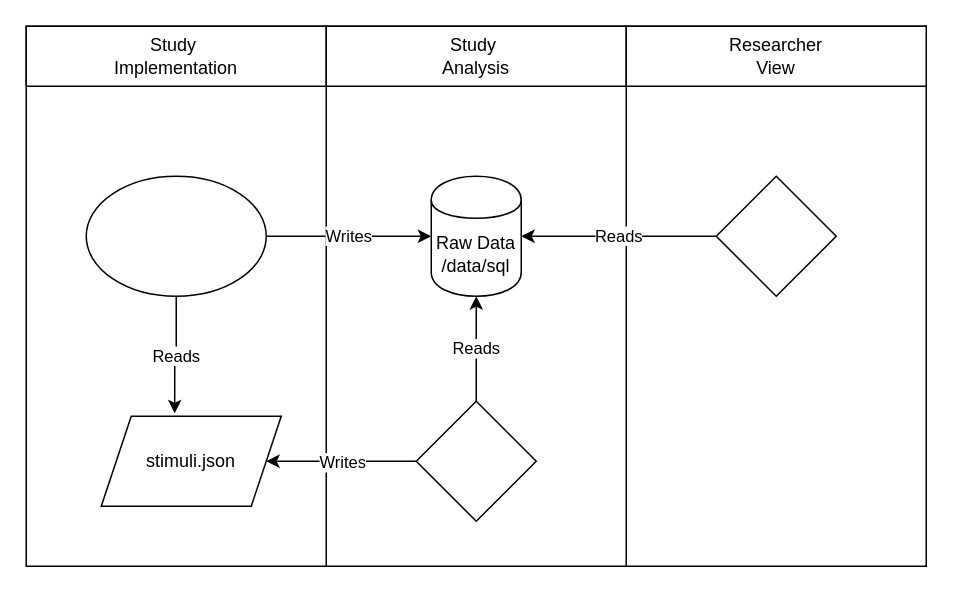
This 953x593 diagram has some shape labels left out. Each missing label, with the centre of its shape:
Bash R Stimuli: the point at 475,460
lab.js: the point at 175,235
Shiny App: the point at 775,235
